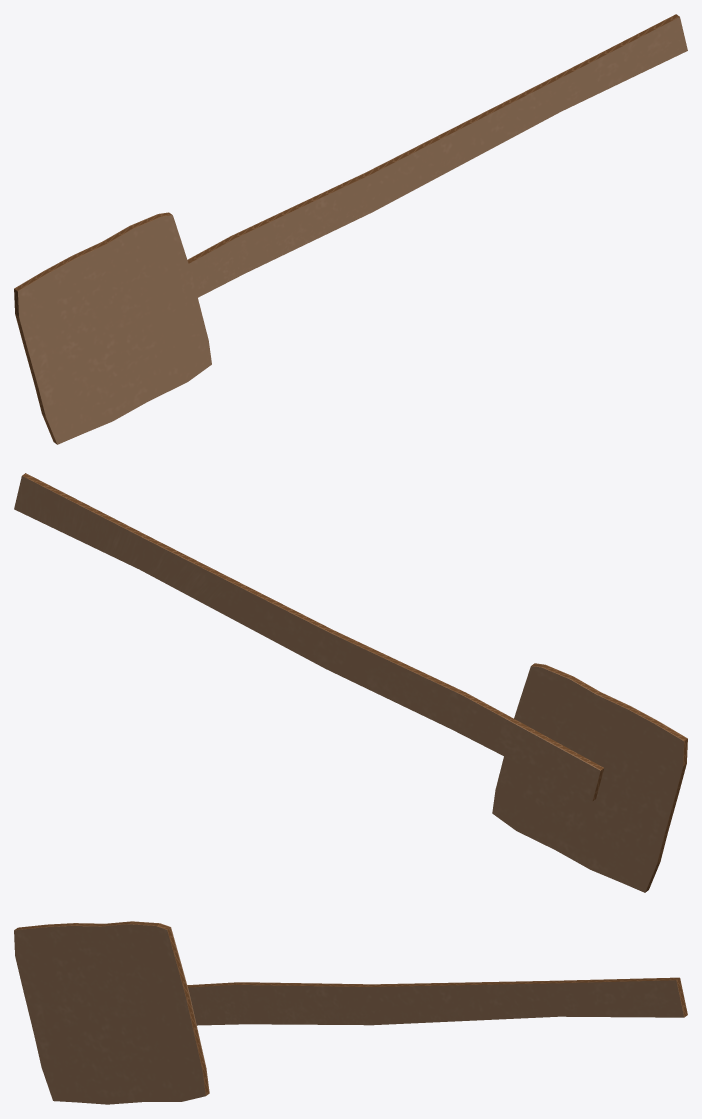
Rendered from letreroCuadrado.fbx.
3 views of the same model, one above another, from view 1: azimuth 30°, elevation 25°; view 2: azimuth 150°, elevation 25°; view 3: azimuth 330°, elevation 25° (orthographic).
Visible parts, largest first — view 1: letreroCuadrado, Palo; view 2: letreroCuadrado, Palo; view 3: letreroCuadrado, Palo.
Boxes of the visible parts, left/top/right/bottom form: letreroCuadrado: left=14, top=212, right=211, bottom=444; Palo: left=187, top=14, right=687, bottom=297; letreroCuadrado: left=492, top=663, right=687, bottom=892; Palo: left=14, top=473, right=604, bottom=801; letreroCuadrado: left=14, top=921, right=209, bottom=1104; Palo: left=187, top=977, right=687, bottom=1025.
Size of the model in its own units: 40.33 by 15.56 by 0.8154.
2 materials, 2 textured.
